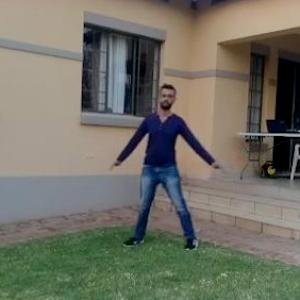land: (119, 95, 212, 242)
